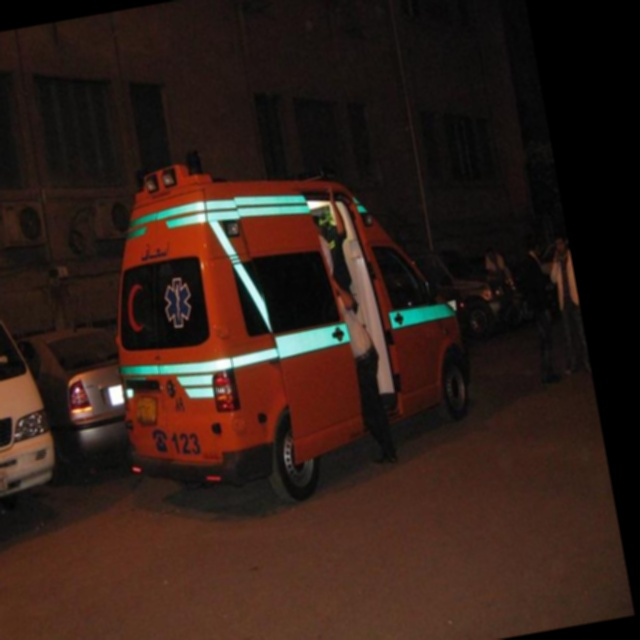Ambulance: (76, 108, 489, 532)
car: (14, 319, 140, 488)
